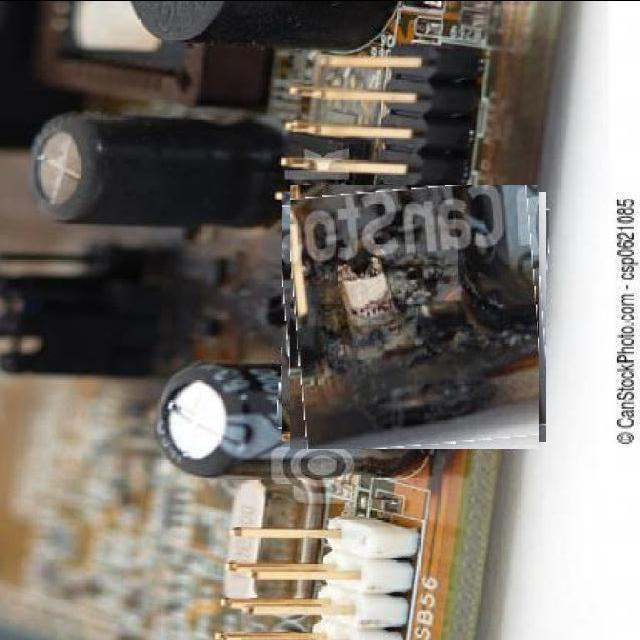damged: (285, 189, 543, 445)
